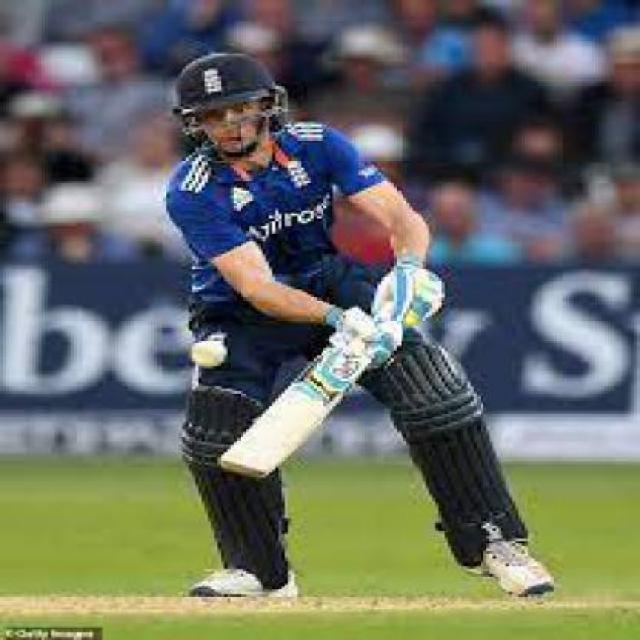ball: (177, 320, 236, 379)
